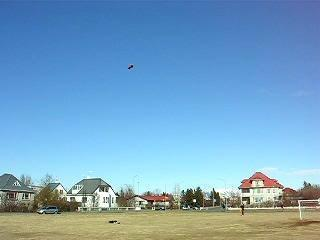car: (37, 206, 58, 214), (193, 205, 205, 210), (166, 204, 178, 209), (182, 205, 191, 210), (156, 206, 164, 210)
